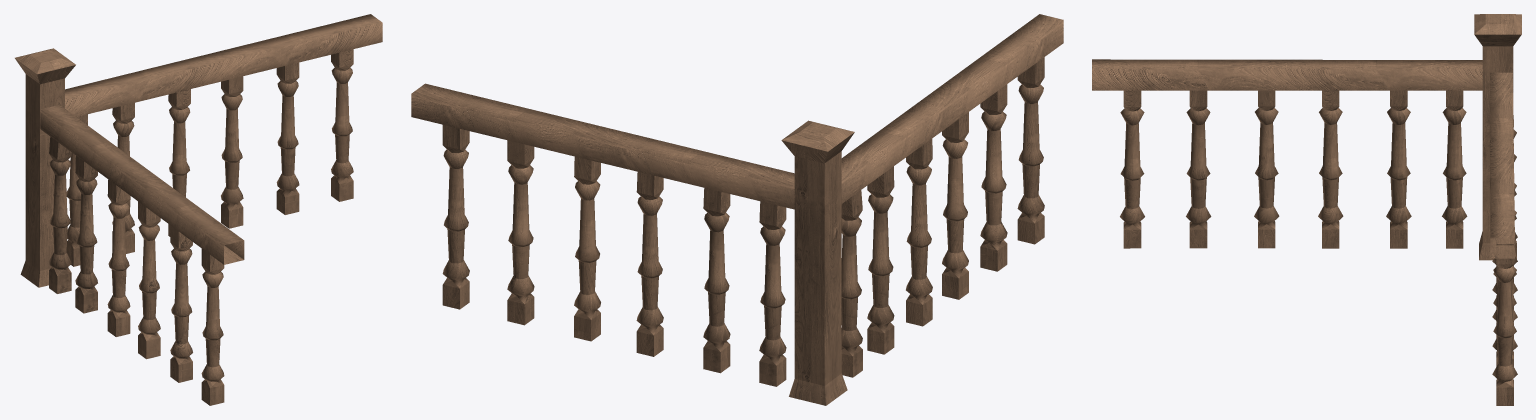
File: RailingIntCornerA.fbx
3 views of the same model, side by side, from view 1: azimuth 30°, elevation 25°; view 2: azimuth 150°, elevation 25°; view 3: azimuth 270°, elevation 25° (orthographic). The views are drawn at different scales.
Parts seen in each view (by area): view 1: RailingIntCornerA; view 2: RailingIntCornerA; view 3: RailingIntCornerA.
Part boxes in pixels (x1=…): RailingIntCornerA: x1=15, y1=14, x2=382, y2=405; RailingIntCornerA: x1=411, y1=14, x2=1063, y2=405; RailingIntCornerA: x1=1092, y1=14, x2=1521, y2=405.
Size of the model in its own units: 208 by 125 by 208.
